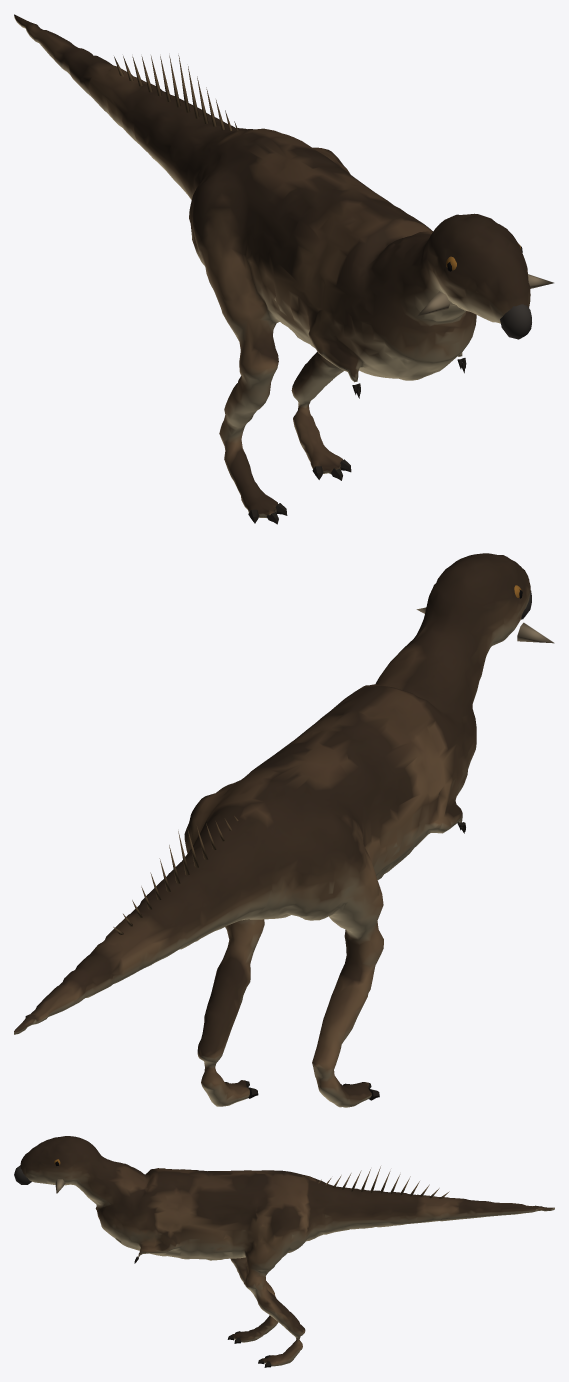
File: Psittacosaurus.fbx
The picture shows the model from 3 angles, top to bottom: view 1: azimuth 30°, elevation 25°; view 2: azimuth 150°, elevation 25°; view 3: azimuth 270°, elevation 25°; orthographic projection. The views are drawn at different scales.
Visible parts, largest first — view 1: Psittacosaurus; view 2: Psittacosaurus; view 3: Psittacosaurus.
Boxes of the visible parts, bbox=[...] form: Psittacosaurus: bbox=[14, 14, 553, 524]; Psittacosaurus: bbox=[14, 553, 554, 1107]; Psittacosaurus: bbox=[14, 1136, 554, 1367].
Bounding box in the file's own units: 0.2605 × 0.6281 × 1.43.
